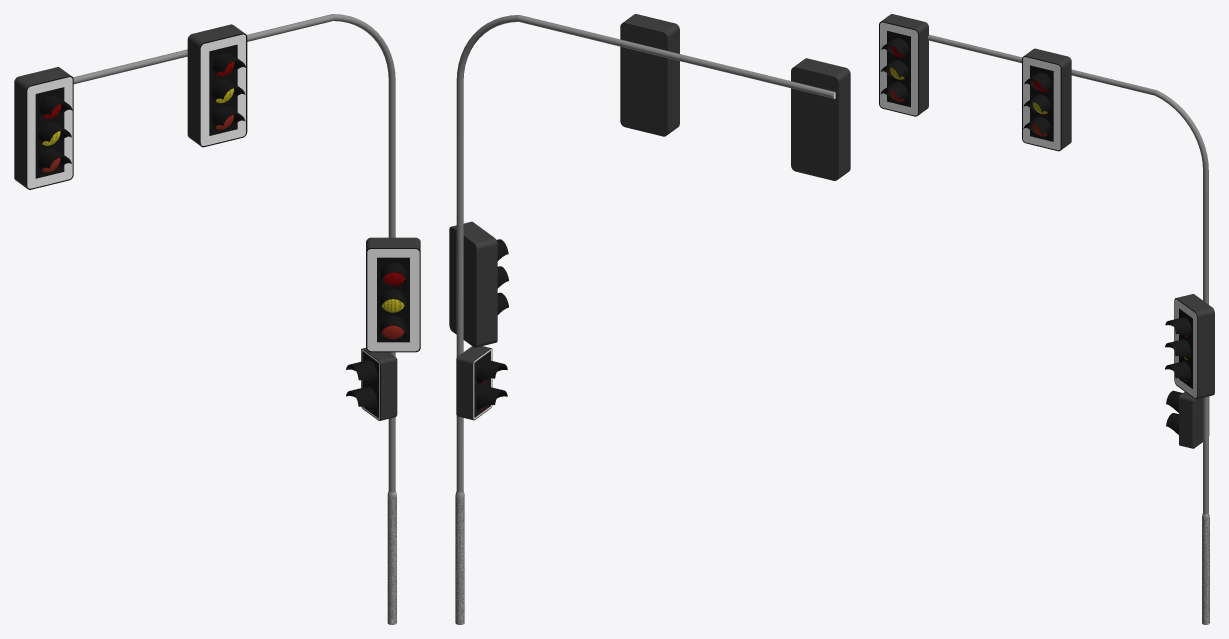
Rendered from trafficlight.dae.
3 views of the same model, side by side, from view 1: azimuth 30°, elevation 25°; view 2: azimuth 150°, elevation 25°; view 3: azimuth 330°, elevation 25° (orthographic). The views are drawn at different scales.
Parts seen in each view (by area): view 1: Komponente_9 (×12), Komponente_8, Komponente_14; view 2: Komponente_9 (×3), Komponente_8, Komponente_14; view 3: Komponente_9 (×8), Komponente_8, Komponente_14.
Boxes of the visible parts, x1,y1,x2,y2 form: Komponente_9 (×12): (14,24,420,352); Komponente_8: (73,14,396,624); Komponente_14: (362,348,397,420); Komponente_9 (×3): (449,14,850,347); Komponente_8: (455,15,835,624); Komponente_14: (456,346,490,419); Komponente_9 (×8): (880,14,1214,398); Komponente_8: (927,34,1209,624); Komponente_14: (1179,392,1209,448).
Size of the model in its own units: 859 by 129 by 1319.
Materials: 14 (1 with a texture image).
